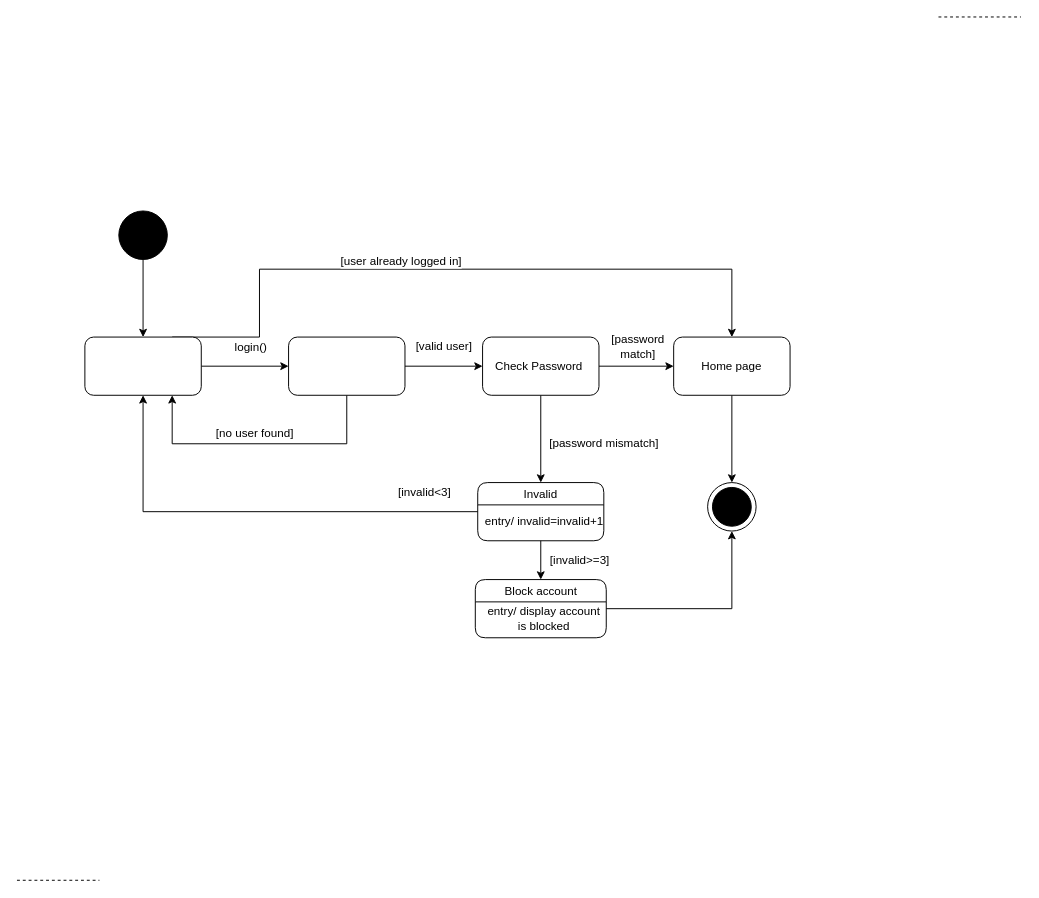
Some shapes in this 1039 by 898 pixel diagram are drawn without their labels. Here are the shapes that lost their labels. From the top down, the centre of each, then its label:
the point at 142,365: Login page
the point at 346,365: Check User
